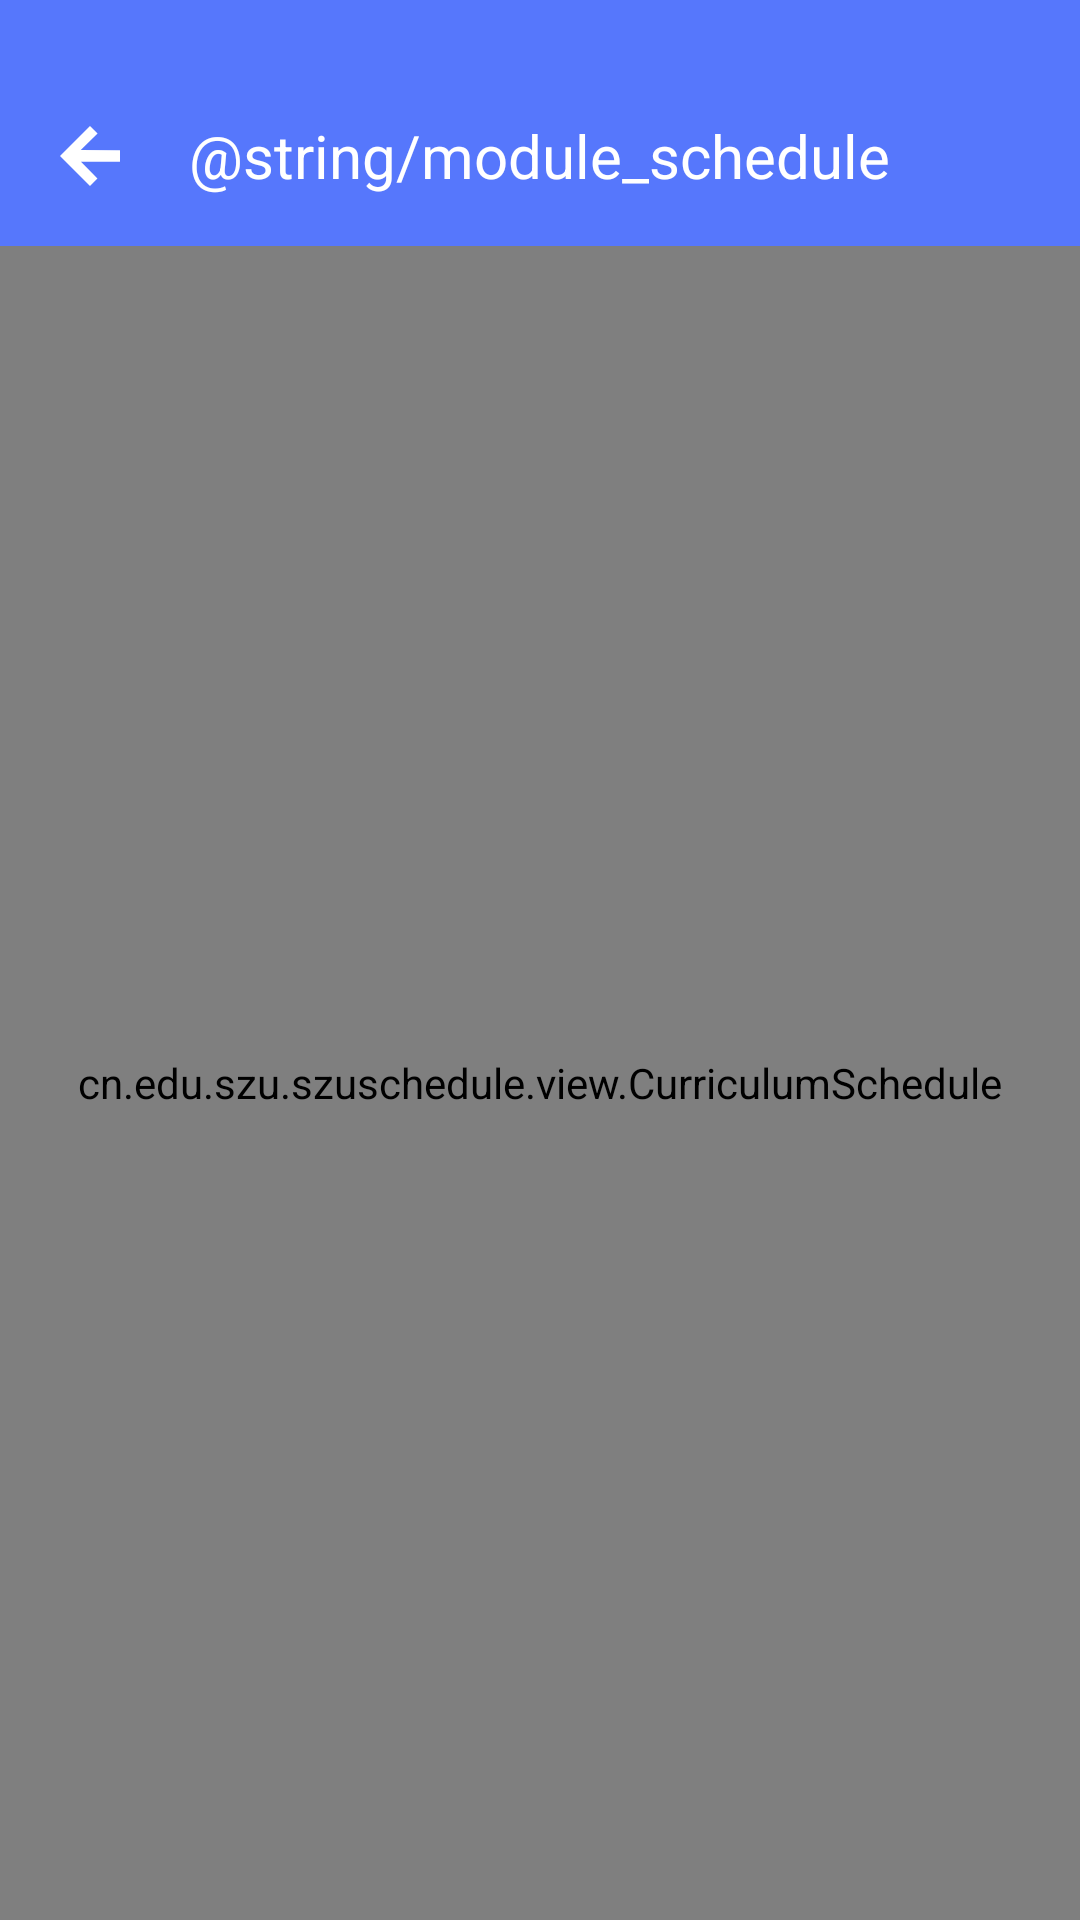

Icon bounding boxes for this 1080 × 1920 phone screenshot, format (x1, y1, x2, y2):
back: (60, 126, 120, 186)
